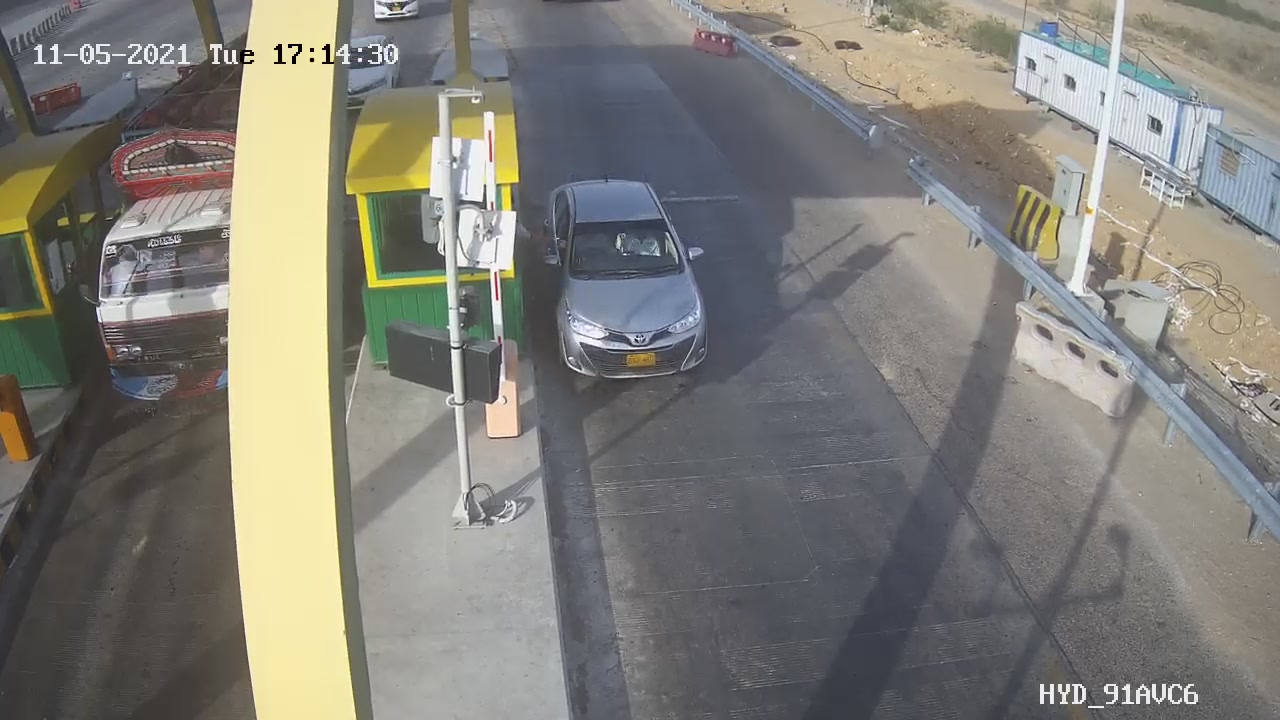F1: (524, 160, 730, 399)
